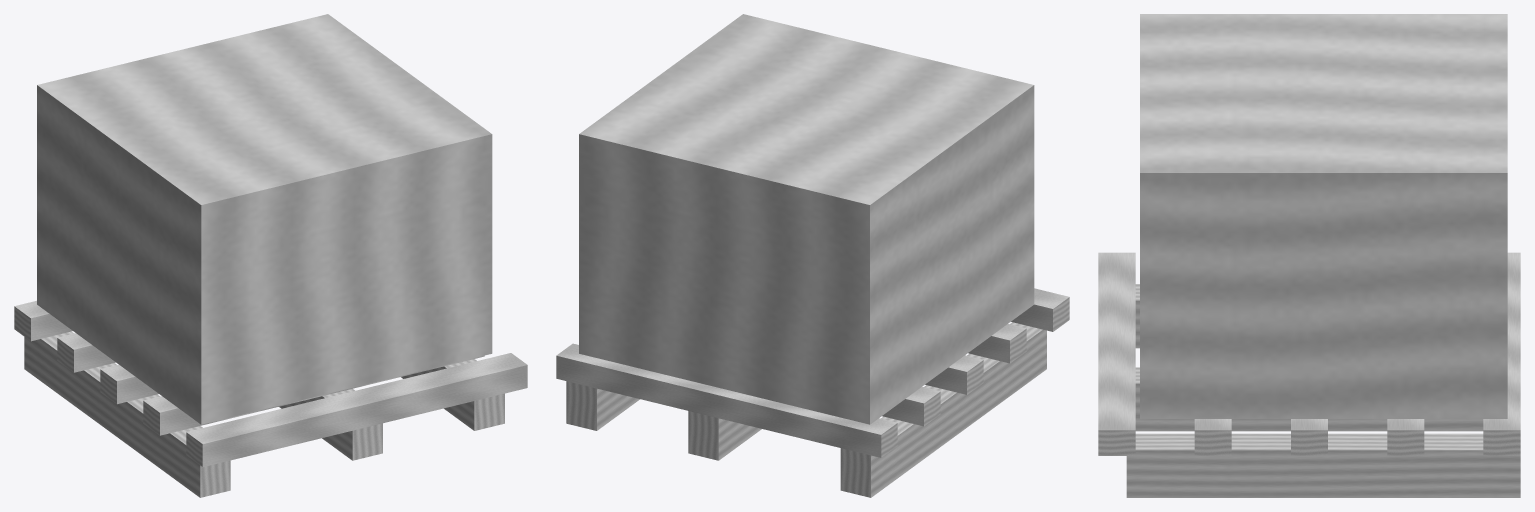
The model's file is industrial_pallet.obj.
3 views of the same model, side by side, from view 1: azimuth 30°, elevation 25°; view 2: azimuth 150°, elevation 25°; view 3: azimuth 270°, elevation 25° (orthographic). The views are drawn at different scales.
Parts seen in each view (by area): view 1: Cargo, Wood; view 2: Cargo, Wood; view 3: Cargo, Wood.
Boxes of the visible parts, <box> form: Cargo: <box>37,14,492,424</box>; Wood: <box>14,300,527,497</box>; Cargo: <box>579,14,1034,424</box>; Wood: <box>556,288,1069,497</box>; Cargo: <box>1140,14,1507,418</box>; Wood: <box>1098,252,1520,497</box>.
Bounding box in the file's own units: 0.96 × 0.81 × 0.965.
